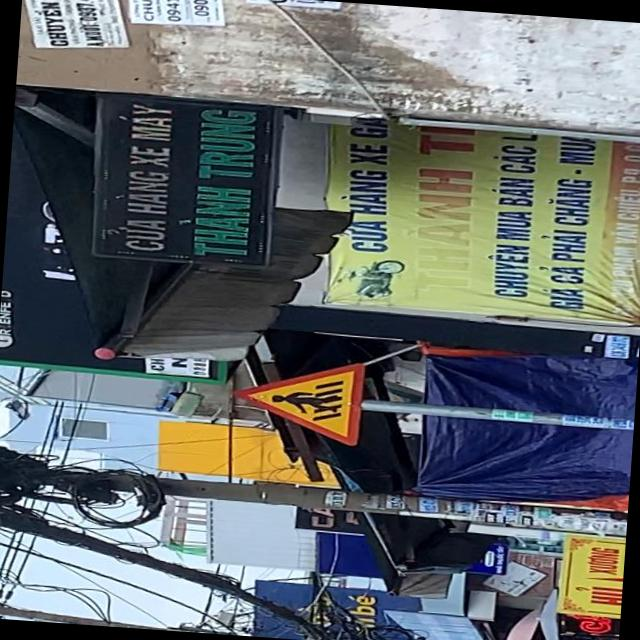W-224: (228, 352, 364, 444)
